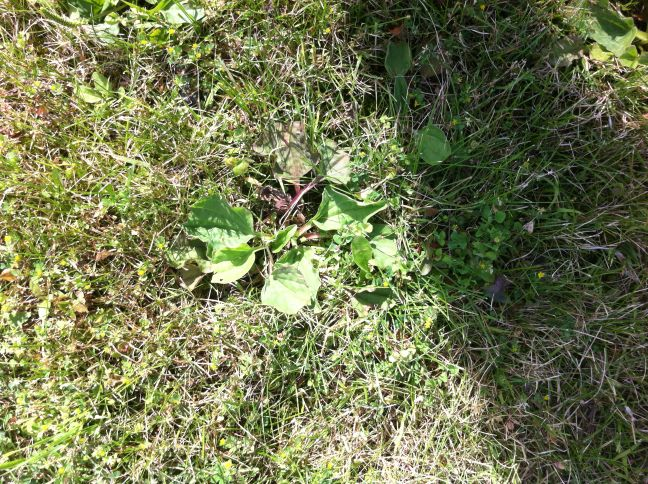weed1: (152, 115, 407, 322)
